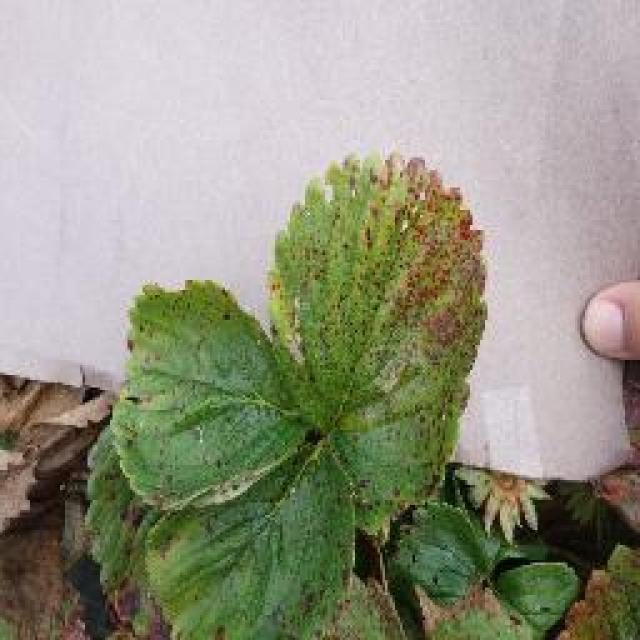Strawberry leaf scorch: (292, 170, 503, 367)
